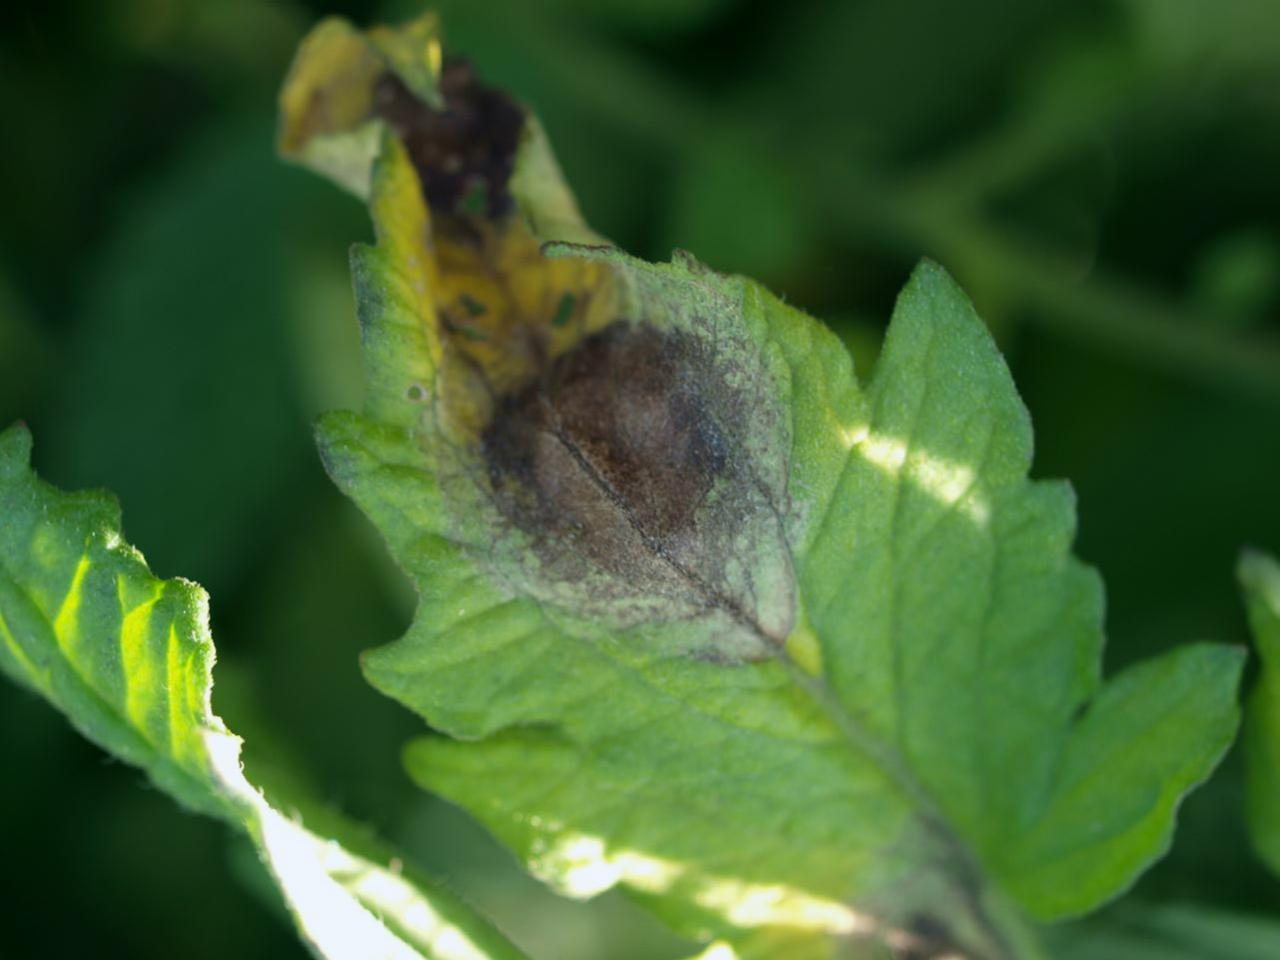Tomato leaf late blight: (273, 8, 1259, 923)
